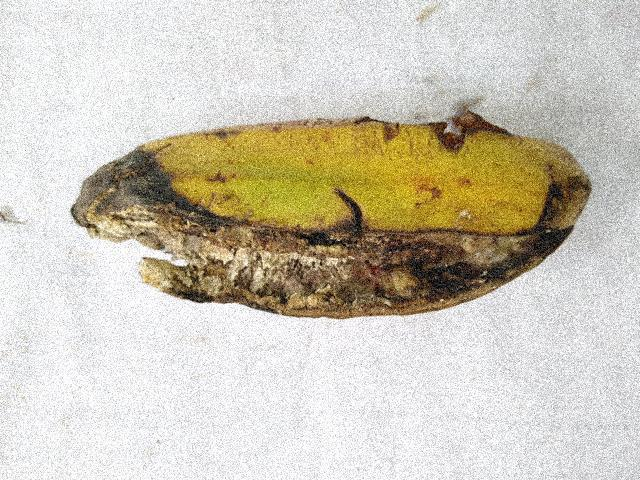rotten: (240, 191, 579, 365), (75, 137, 297, 321)
